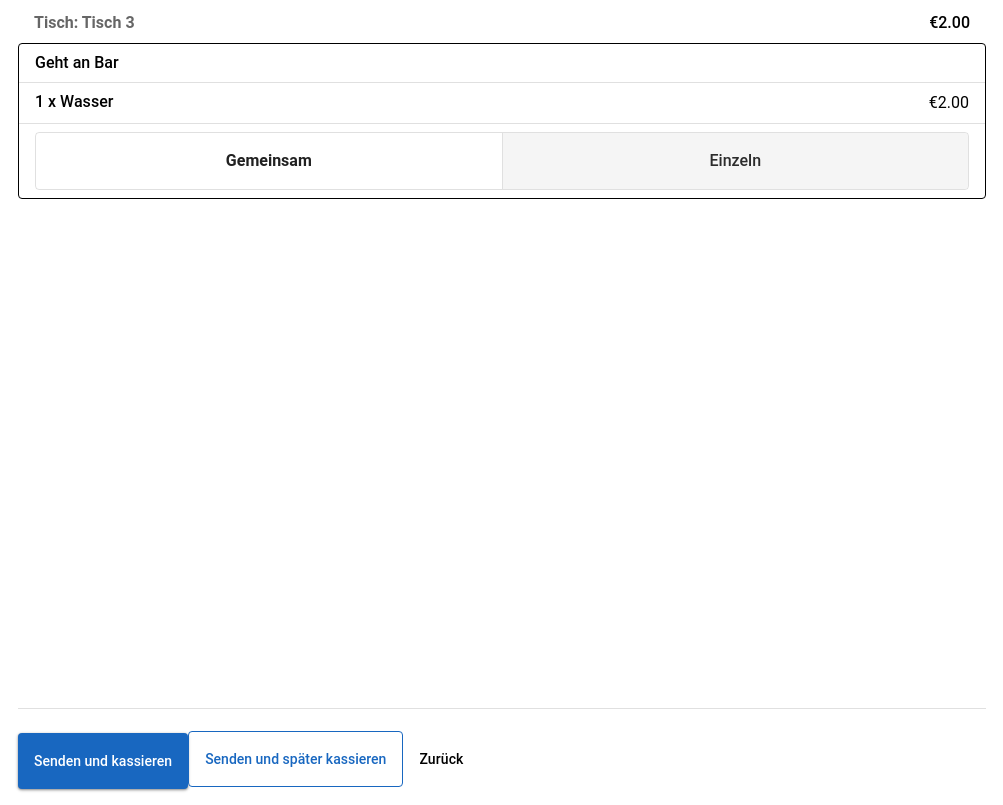
Test: an order the laptop did not confirm › refuses to have the delivery choice changed
Step 1. Click the button with test id "send-and-settle-later" → (296, 759), box x1=188 y1=731 x2=403 y2=787
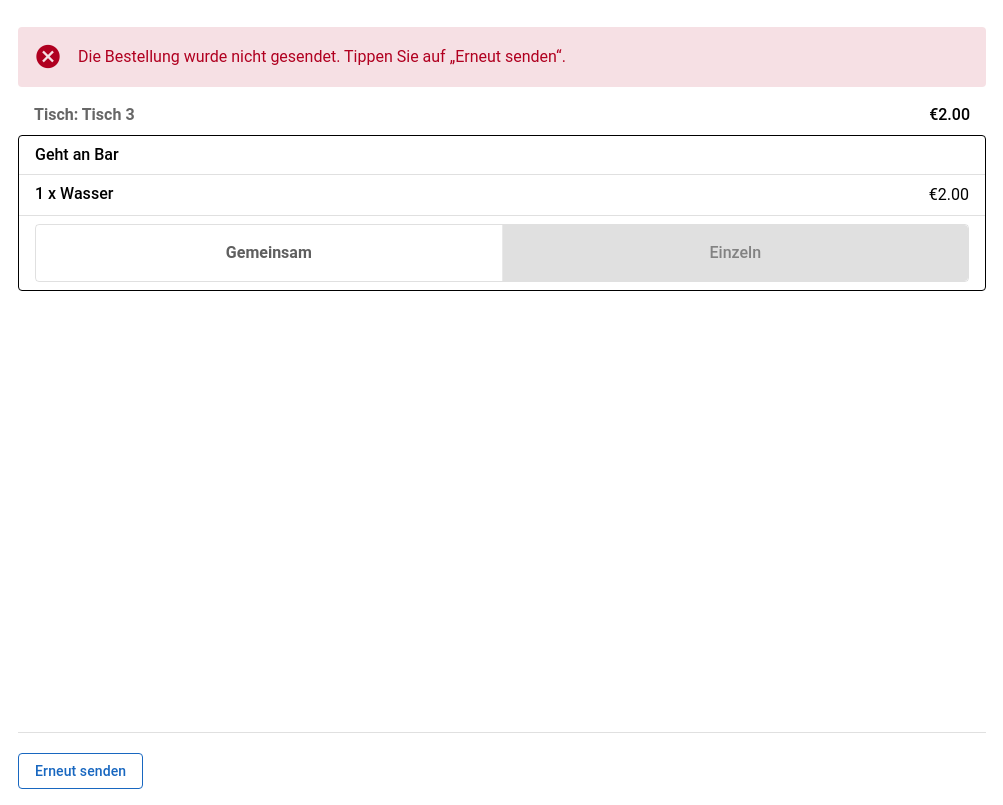
Expected: the button with test id "delivery-together" is disabled, x1=36 y1=225 x2=502 y2=281
